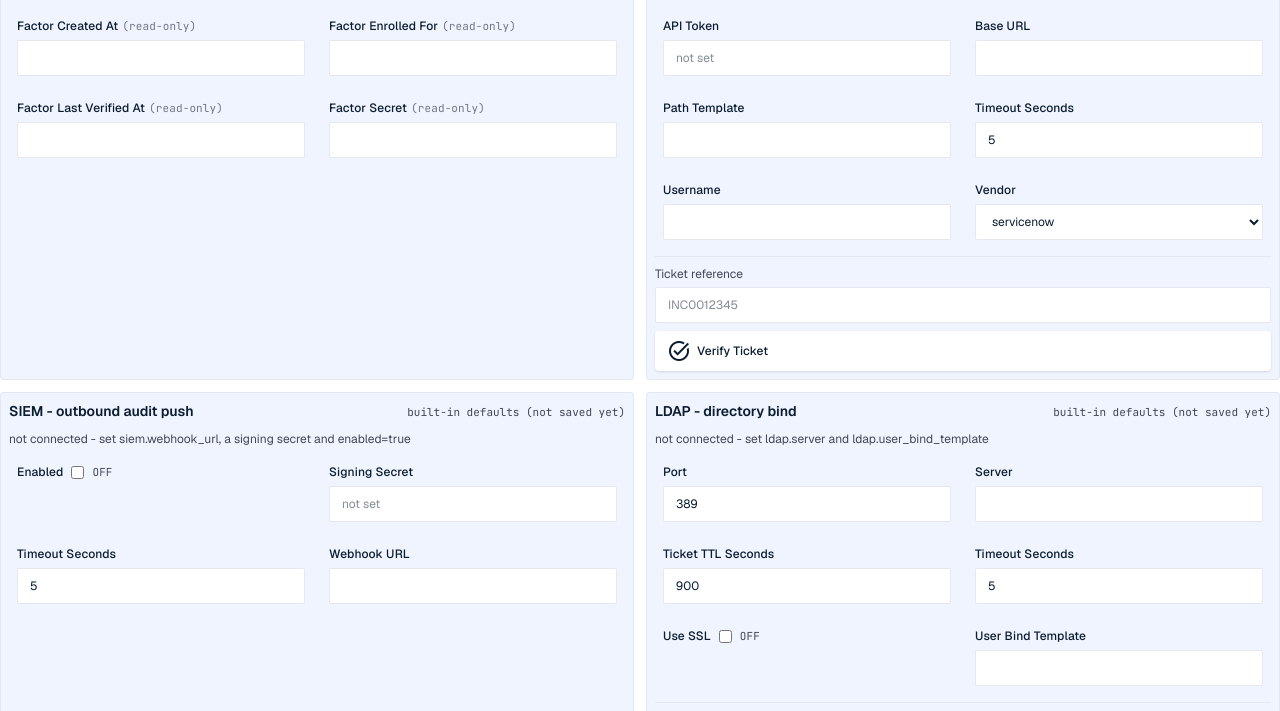
Test case: ITSM verify (11.4 NEW action - no legacy button calls it) › a no-token verify renders the 401 line verbatim
(page scrolled)
Click the button "Verify Ticket": (733, 351) [655,331,1271,371]
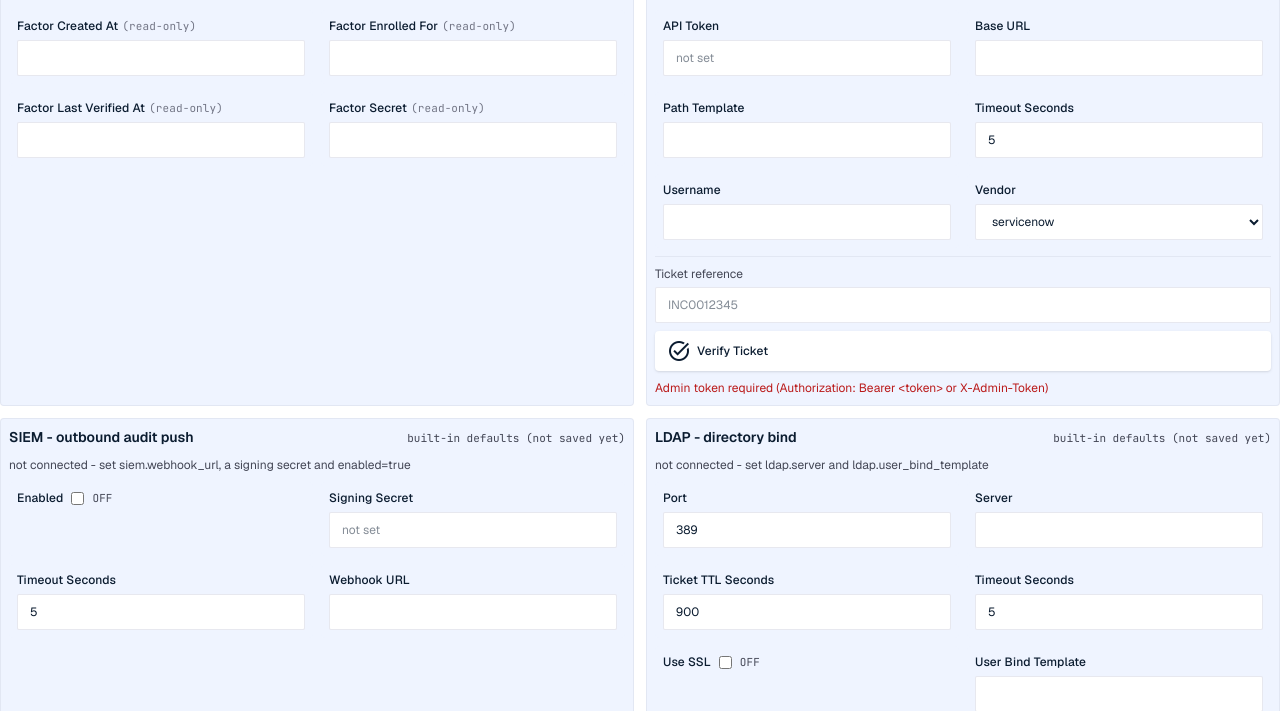
Result: the text "Admin token required (Authorization: Bearer <token> or X-Admin-Token)" is shown at [655,380,1048,396]
